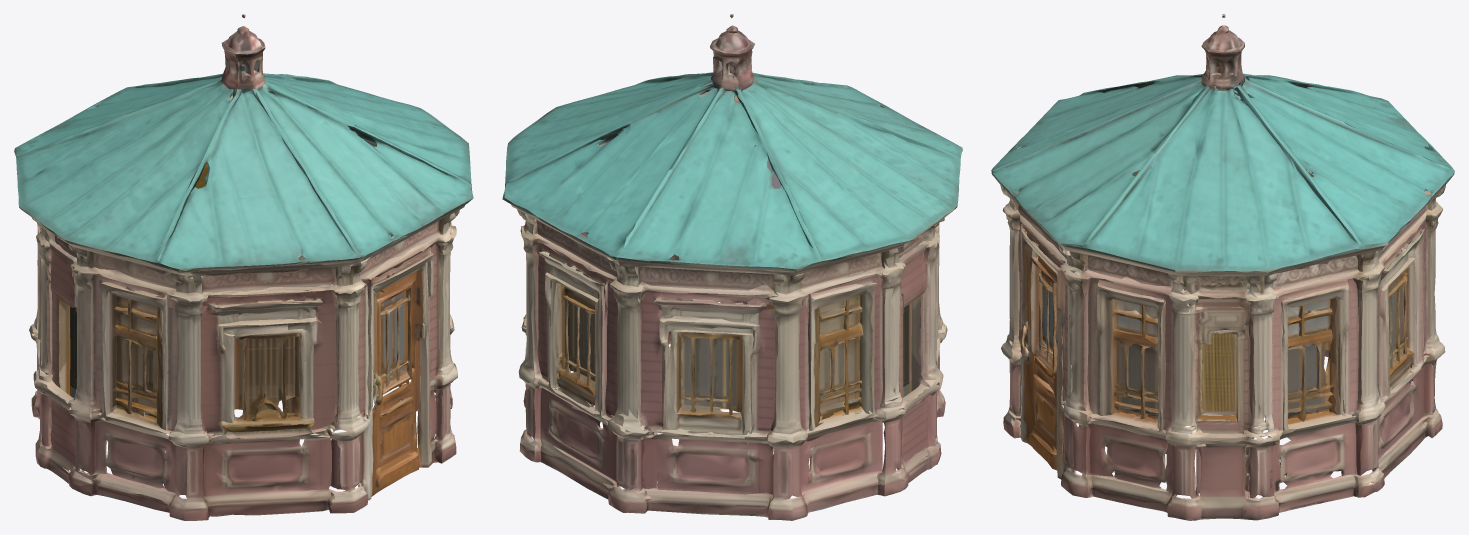
File: unified--ticket.glb
The picture shows the model from 3 angles, left to right: view 1: azimuth 30°, elevation 25°; view 2: azimuth 150°, elevation 25°; view 3: azimuth 270°, elevation 25°; orthographic projection.
Visible parts, largest first — view 1: ticket-0; view 2: ticket-0; view 3: ticket-0.
Boxes of the visible parts, box(x1,y1,x2,y2) form: ticket-0: box(14, 14, 473, 520); ticket-0: box(502, 14, 962, 520); ticket-0: box(991, 14, 1454, 520).
Size of the model in its own units: 4.24 by 4.2 by 4.24.
1 material, 1 textured.
